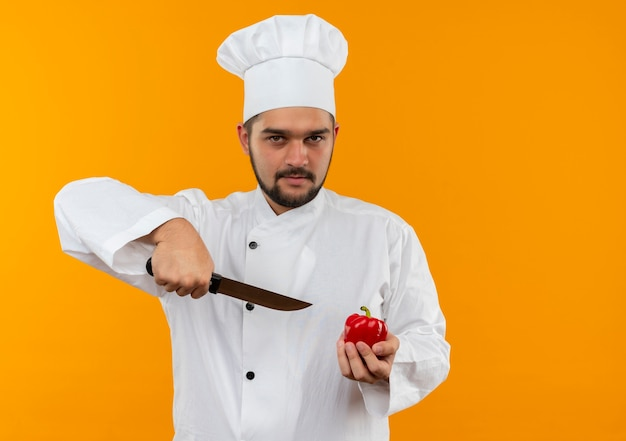knife: (206, 271, 314, 314)
